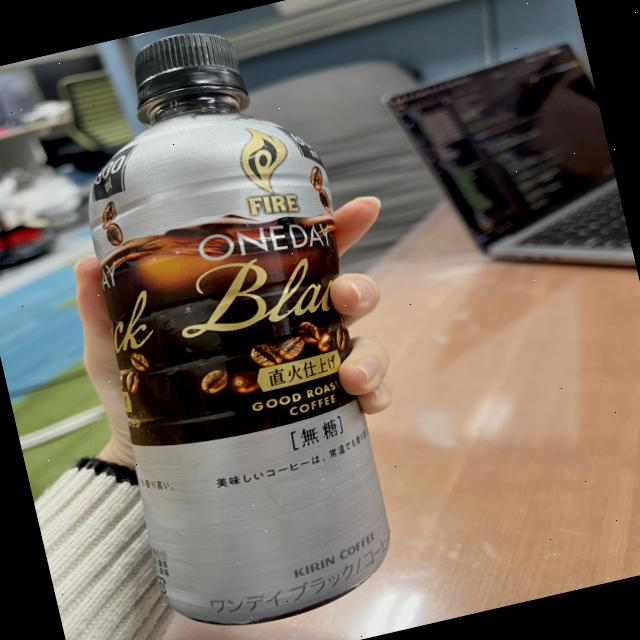coffee-black: (44, 1, 421, 640)
